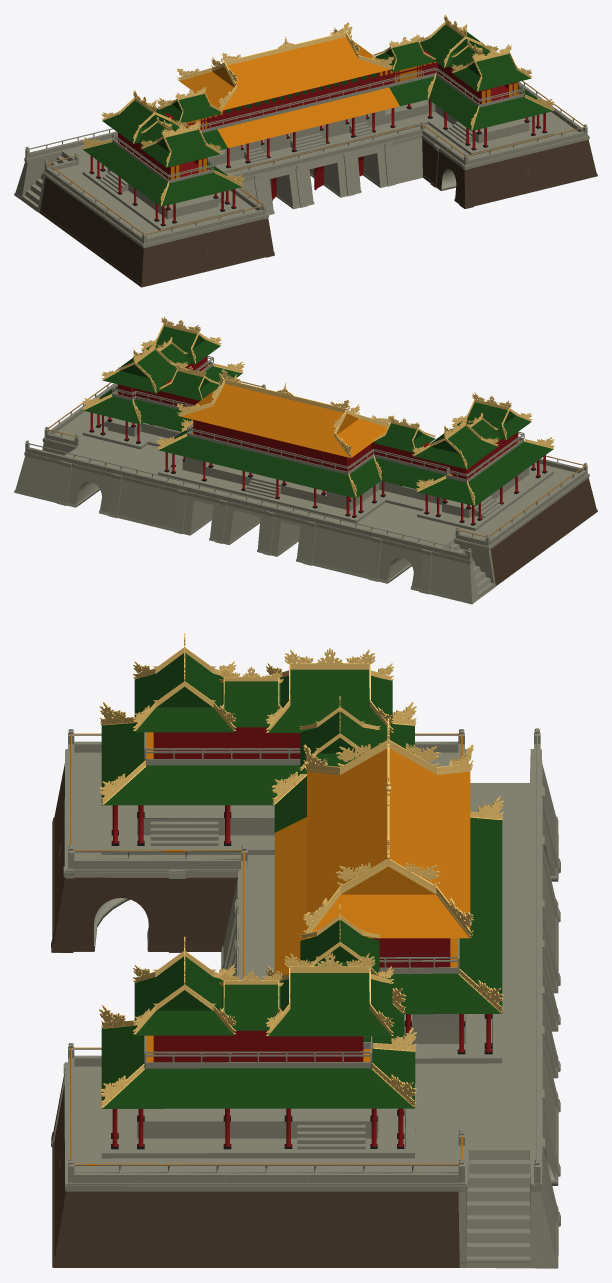
File: ngo-mon.glb
3 views of the same model, one above another, from view 1: azimuth 30°, elevation 25°; view 2: azimuth 150°, elevation 25°; view 3: azimuth 270°, elevation 25° (orthographic). The views are drawn at different scales.
Parts seen in each view (by area): view 1: Cube, Cube.031, Cube.042, Cube.086, Cube.002, Cube.001, Cube.115, Cube.032, Cube.012, Cube.124, Cube.241, Cube.264 (+11 smaller); view 2: Cube, Cube.031, Cube.042, Cube.002, Cube.086, Cube.032, Cube.264, Cube.252, Cube.116, Cube.034, Cube.012, Cube.124 (+11 smaller); view 3: Cube, Cube.031, Cube.042, Cube.002, Cube.086, Cube.252, Cube.001, Cube.264, Cube.012, Cube.124, Cube.241, Cube.387 (+17 smaller).
Boxes of the visible parts, left/top/right/bottom form: Cube: left=14, top=112, right=597, bottom=287; Cube.031: left=83, top=74, right=552, bottom=206; Cube.042: left=212, top=37, right=390, bottom=110; Cube.086: left=118, top=50, right=518, bottom=179; Cube.002: left=92, top=103, right=543, bottom=225; Cube.001: left=42, top=134, right=589, bottom=248; Cube.115: left=47, top=81, right=584, bottom=238; Cube.032: left=112, top=67, right=524, bottom=180; Cube.012: left=164, top=99, right=528, bottom=210; Cube.124: left=142, top=130, right=220, bottom=167; Cube.241: left=452, top=54, right=530, bottom=91; Cube.264: left=102, top=100, right=179, bottom=143; Cube: left=14, top=411, right=597, bottom=604; Cube.031: left=83, top=364, right=553, bottom=506; Cube.042: left=180, top=384, right=358, bottom=457; Cube.002: left=93, top=422, right=544, bottom=524; Cube.086: left=118, top=356, right=518, bottom=479; Cube.032: left=112, top=356, right=524, bottom=480; Cube.264: left=414, top=426, right=497, bottom=468; Cube.252: left=102, top=350, right=186, bottom=393; Cube.116: left=28, top=443, right=467, bottom=554; Cube.034: left=112, top=362, right=523, bottom=482; Cube.012: left=108, top=418, right=471, bottom=509; Cube.124: left=453, top=402, right=530, bottom=439; Cube: left=51, top=749, right=560, bottom=1268; Cube.031: left=101, top=723, right=502, bottom=1108; Cube.042: left=307, top=748, right=470, bottom=929; Cube.002: left=111, top=805, right=492, bottom=1149; Cube.086: left=153, top=727, right=450, bottom=1062; Cube.252: left=267, top=973, right=392, bottom=1036; Cube.001: left=63, top=749, right=469, bottom=1191; Cube.264: left=267, top=669, right=392, bottom=732; Cube.012: left=137, top=805, right=465, bottom=1121; Cube.124: left=134, top=653, right=234, bottom=732; Cube.241: left=134, top=956, right=234, bottom=1035; Cube.387: left=307, top=894, right=469, bottom=938.
Bounding box in the file's own units: 4.66 × 1.31 × 2.24.
